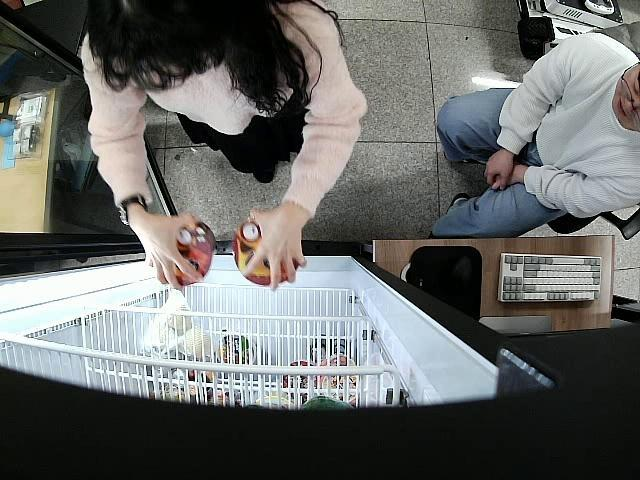05_nuguri_L: (232, 218, 300, 286), (160, 220, 217, 286)
